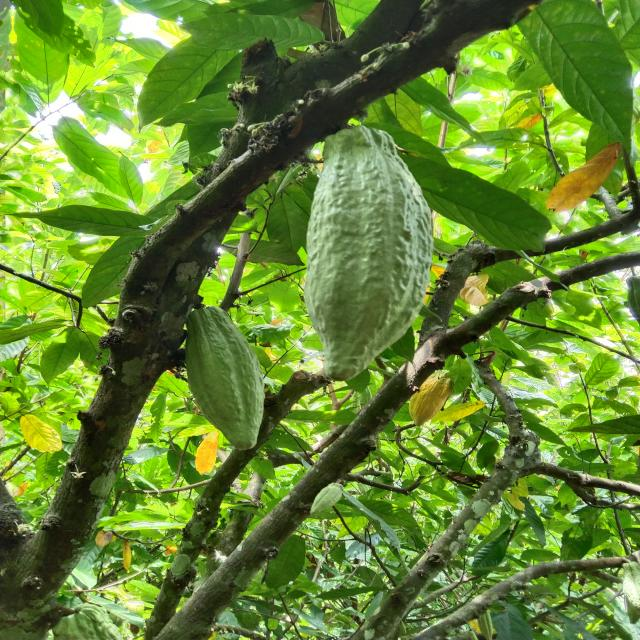Sana: (312, 129, 431, 380), (188, 309, 266, 454), (407, 368, 454, 424), (60, 608, 119, 640), (308, 484, 339, 516), (88, 474, 118, 498)
